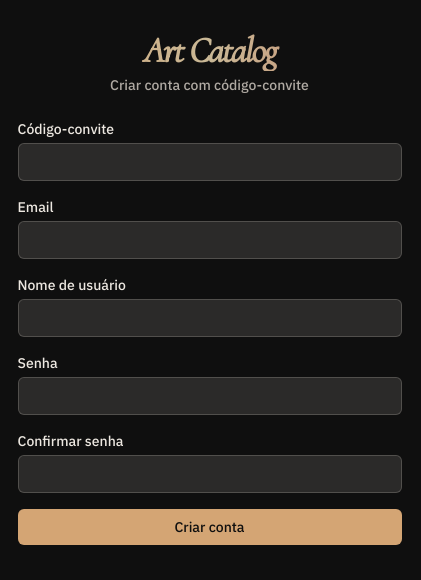
Test case: RegisterWithInvitePage › shows error on invalid invite
In the field labelled "Código-convite": (210, 162) 18,143 -> 402,181, type "BADCODE"
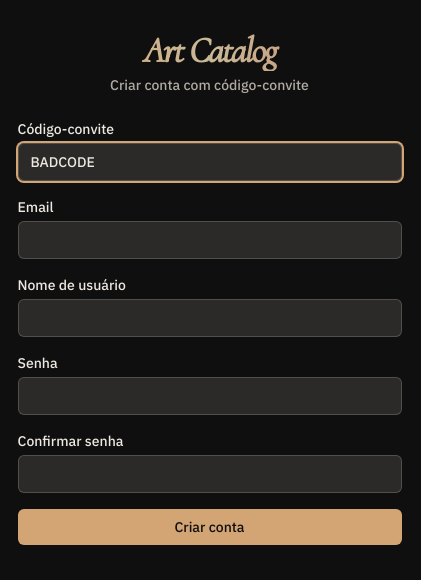
In the field labelled "Email": (210, 240) 18,221 -> 402,259, type "new@example.com"
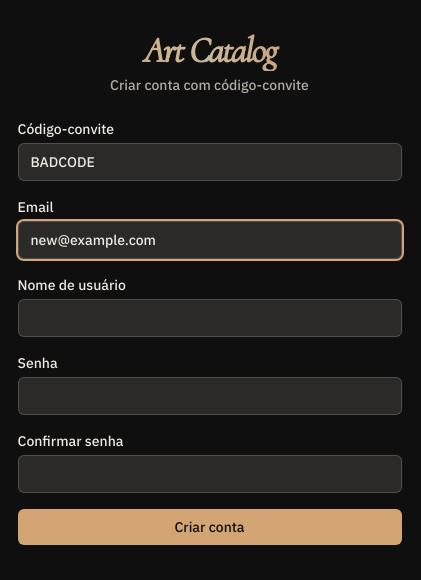
In the field labelled "Nome de usuário": (210, 318) 18,299 -> 402,337, type "newuser"
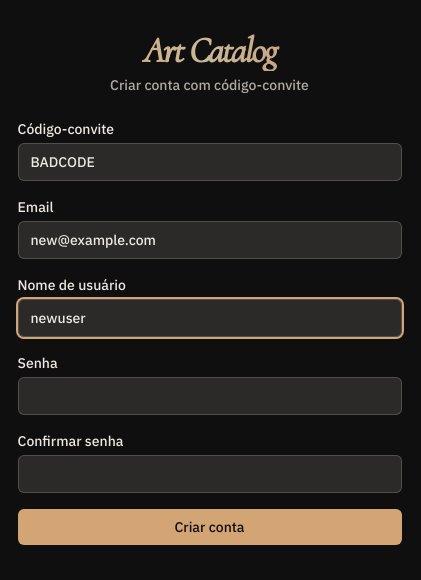
In the password field labelled "Senha": (210, 396) 18,377 -> 402,415, type "password123"
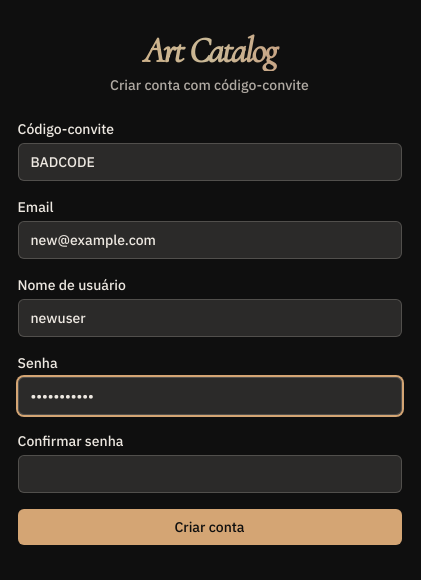
In the password field labelled "Confirmar senha": (210, 474) 18,455 -> 402,493, type "password123"
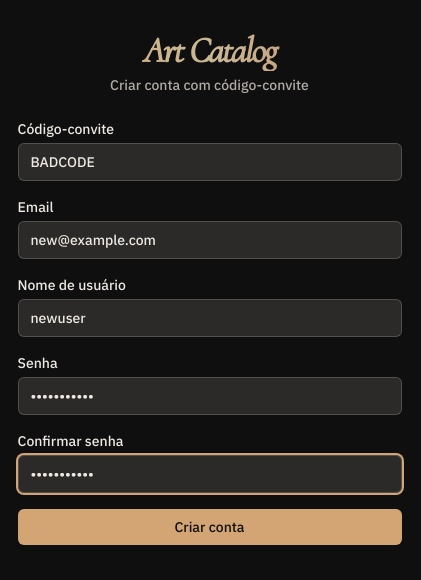
Click the button "Criar conta": (210, 527) 18,509 -> 402,545
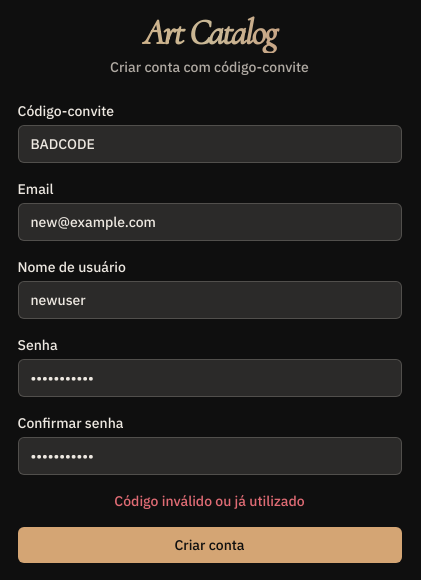
Expected: the text "Código inválido ou já utilizado" is shown, 114,492 -> 305,510
